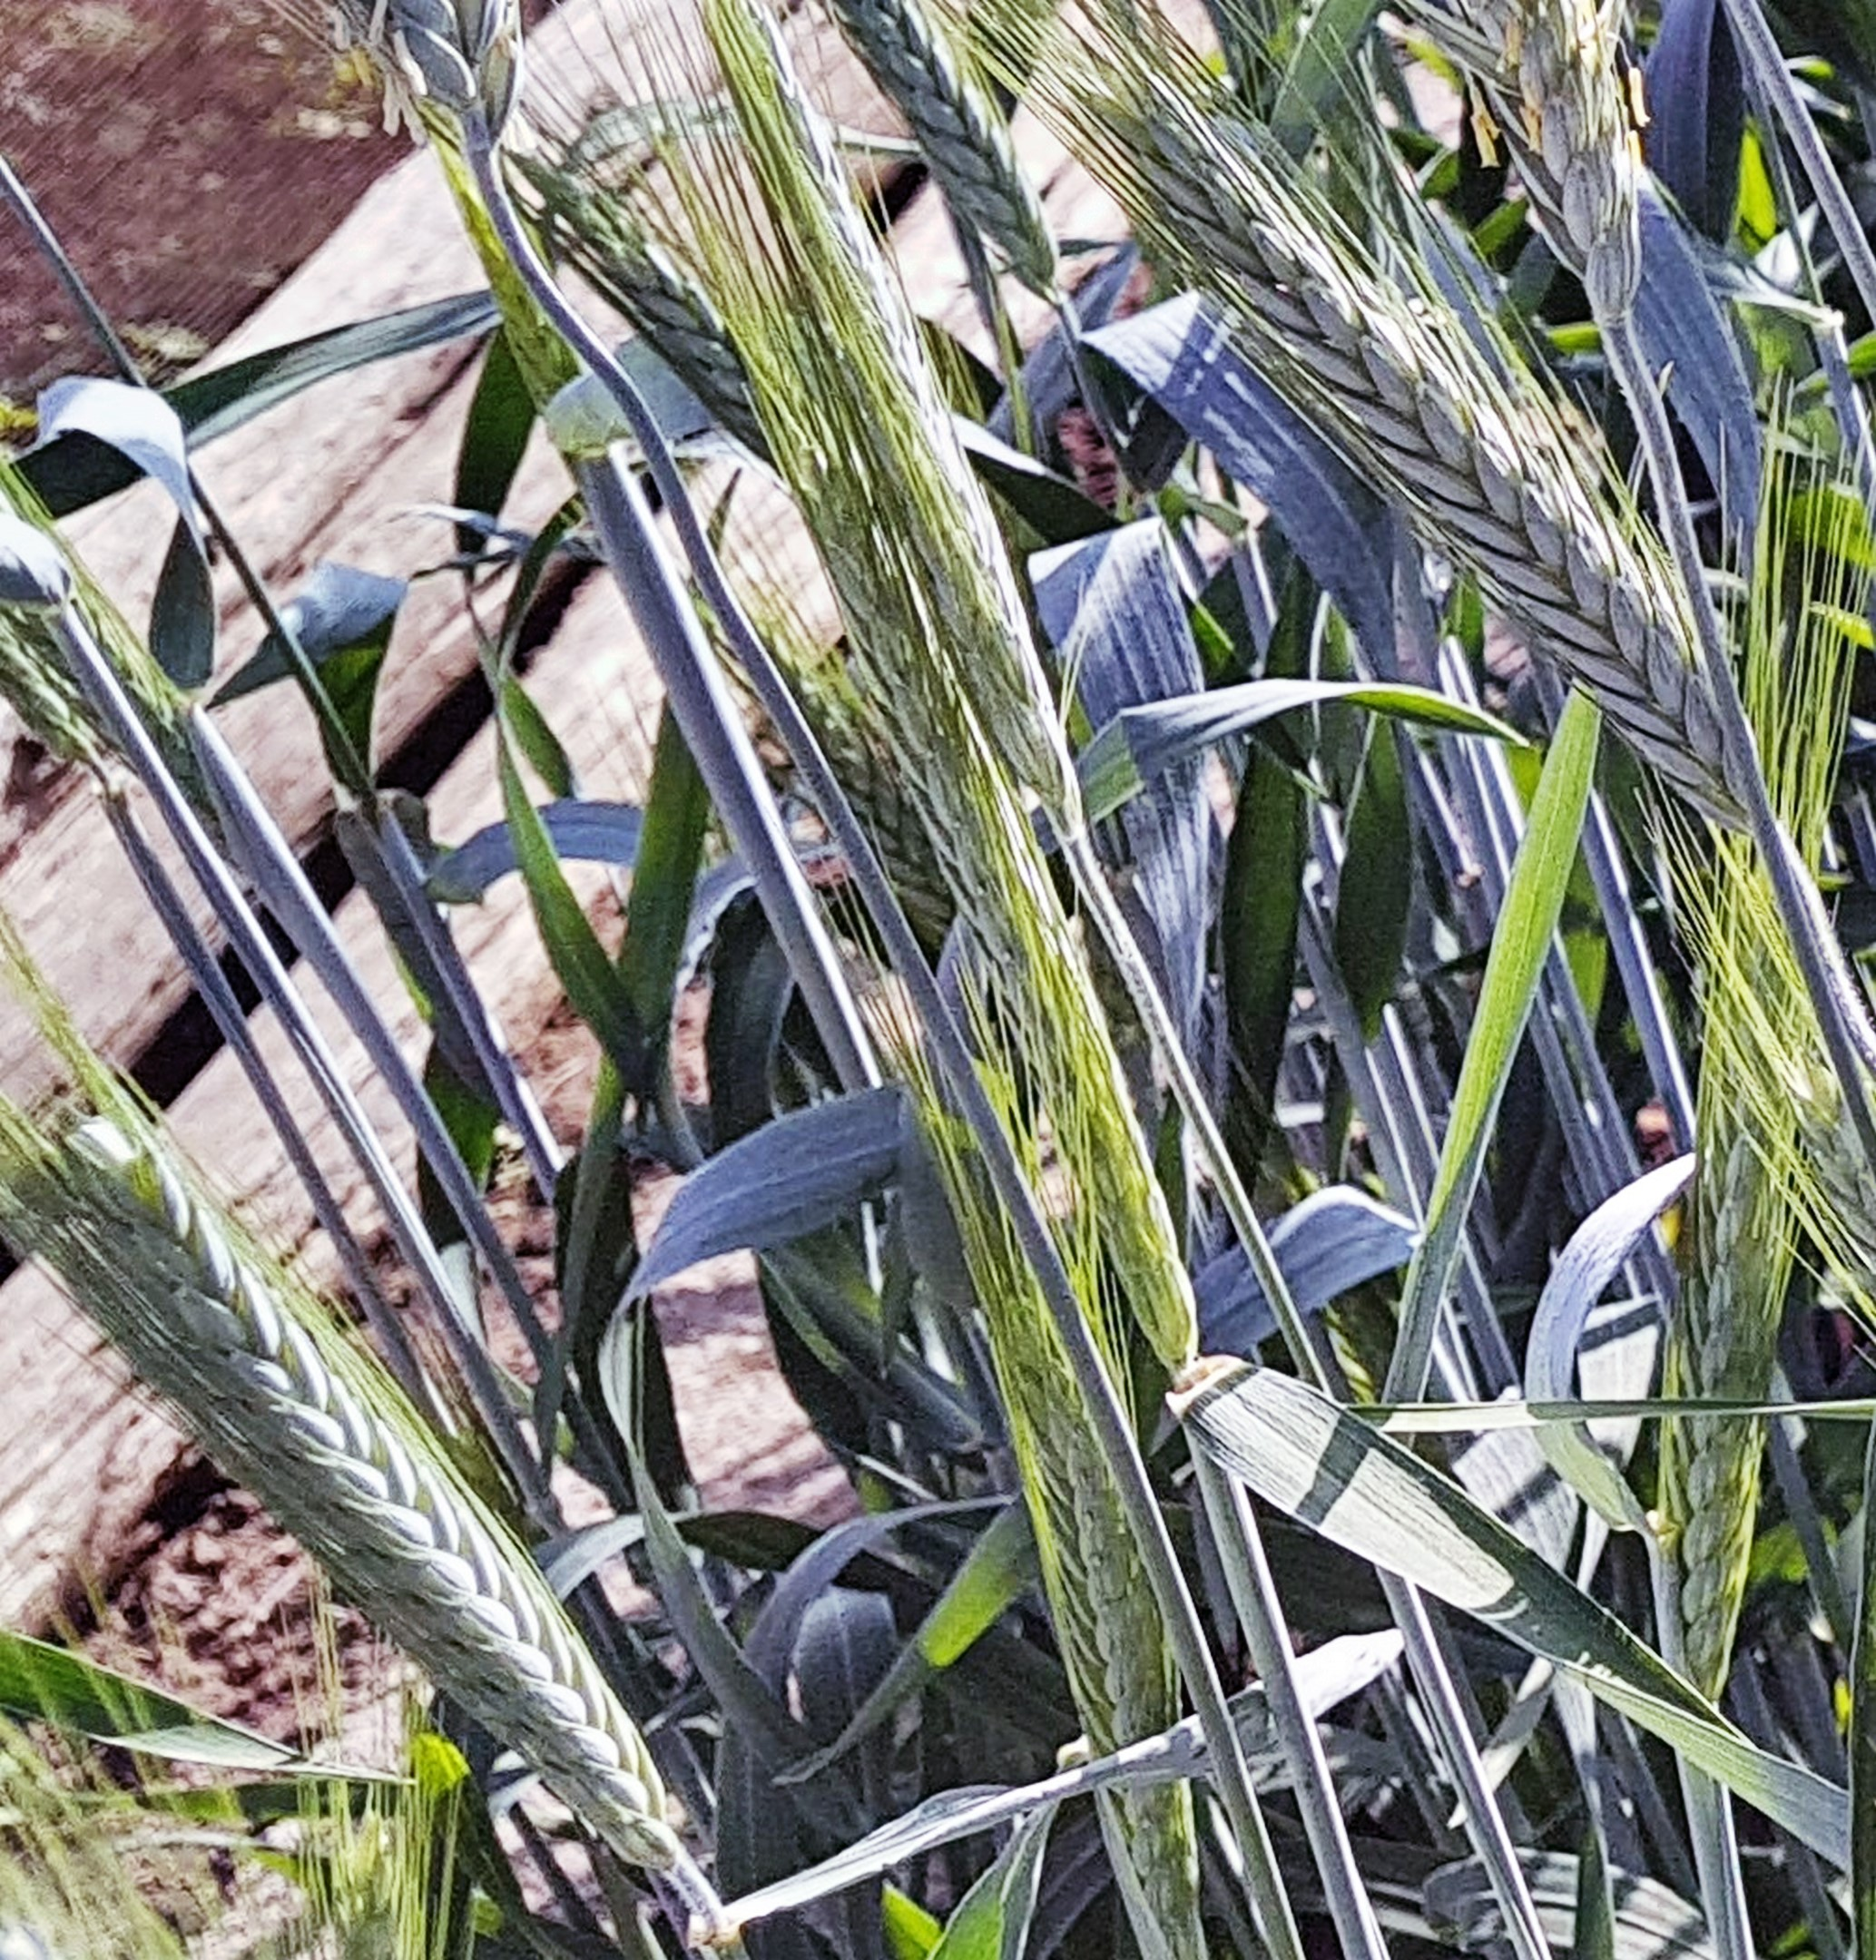Healthy Wheat: (1099, 87, 1816, 829), (31, 1117, 691, 1853)
